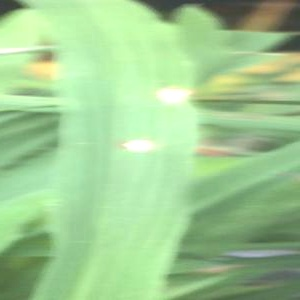Brown_Spot: (106, 129, 175, 168), (154, 82, 206, 114)
